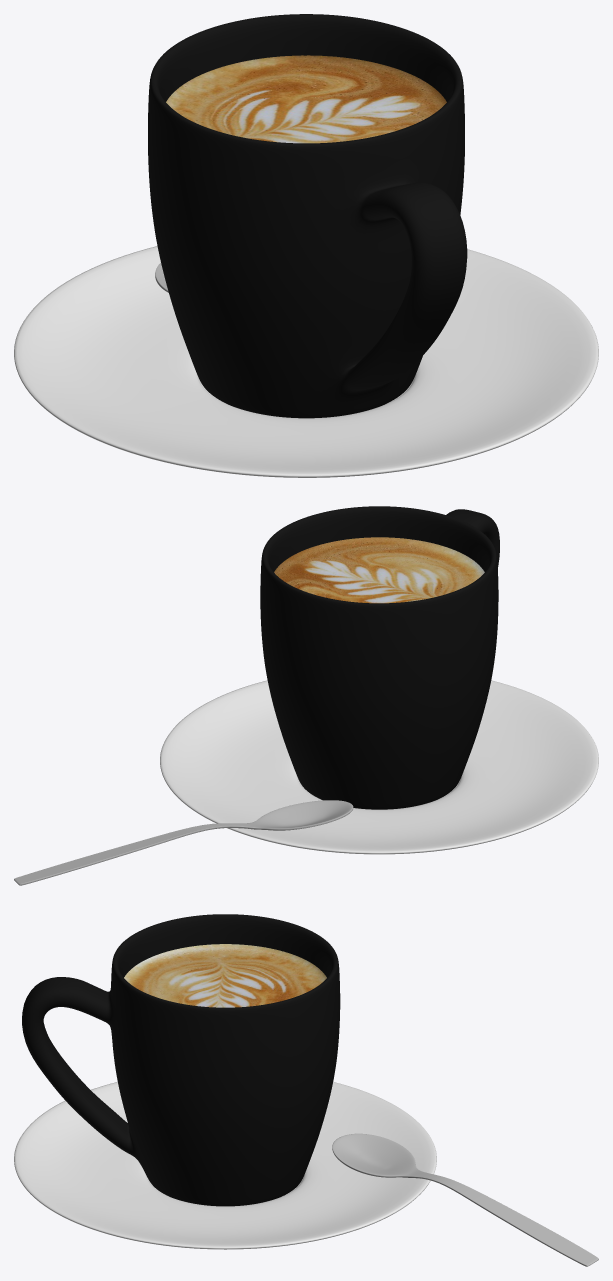
Rendered from mocha.glb.
The picture shows the model from 3 angles, top to bottom: view 1: azimuth 30°, elevation 25°; view 2: azimuth 150°, elevation 25°; view 3: azimuth 270°, elevation 25°; orthographic projection. The views are drawn at different scales.
Visible parts, largest first — view 1: Circle, Circle.001, Circle.002; view 2: Circle, Circle.001, Circle.002, Circle.003; view 3: Circle, Circle.001, Circle.002, Circle.003.
Part boxes in pixels (box(x1,y1,x2,y2)): Circle: box(148, 14, 467, 418); Circle.001: box(14, 246, 598, 477); Circle.002: box(166, 55, 446, 143); Circle: box(260, 506, 499, 809); Circle.001: box(160, 680, 598, 854); Circle.002: box(274, 537, 484, 603); Circle.003: box(14, 800, 353, 885); Circle: box(22, 914, 340, 1206); Circle.001: box(14, 1082, 436, 1249); Circle.002: box(124, 944, 326, 1007); Circle.003: box(332, 1133, 598, 1266).
Bounding box in the file's own units: 3.59 × 2.08 × 4.96.
4 materials, 1 textured.
